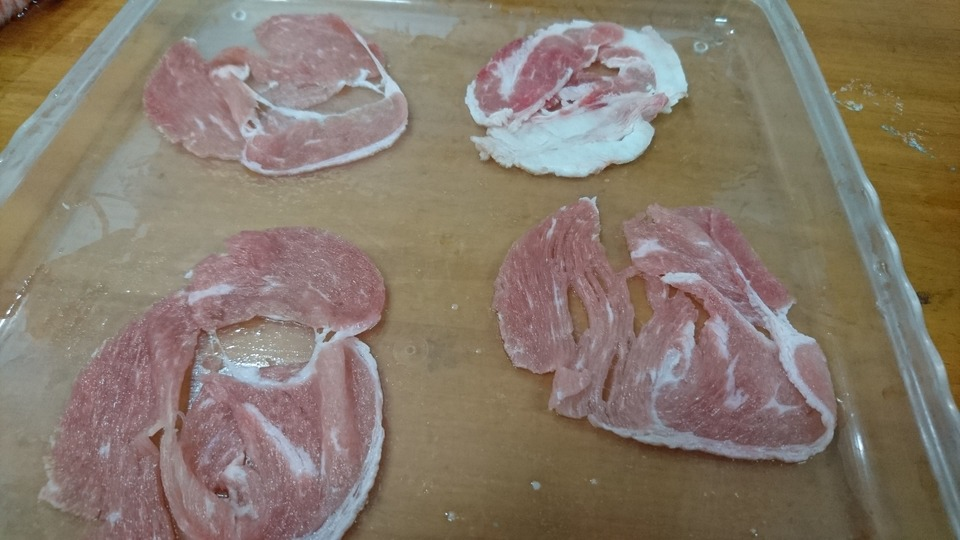restructured meat: (56, 190, 385, 535), (490, 206, 853, 463), (138, 21, 416, 178), (469, 13, 708, 191)
